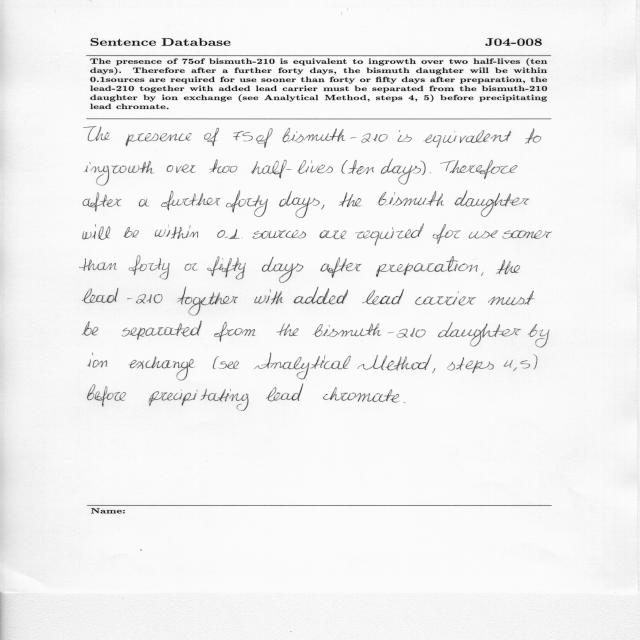word: (254, 353, 351, 379), (149, 388, 249, 411), (376, 256, 478, 277), (454, 190, 529, 217), (438, 322, 521, 346), (177, 287, 238, 315), (282, 127, 388, 143), (313, 323, 426, 338), (85, 161, 155, 185), (128, 357, 195, 381), (424, 130, 511, 148), (251, 160, 333, 179), (122, 321, 202, 340), (355, 224, 424, 246), (450, 160, 518, 179), (357, 354, 432, 371), (323, 387, 399, 403), (82, 288, 163, 303), (161, 191, 221, 211), (381, 159, 426, 185), (226, 190, 268, 217), (279, 191, 320, 218), (262, 257, 303, 283), (128, 256, 170, 280), (378, 191, 444, 206), (294, 287, 348, 304), (207, 257, 246, 280), (320, 257, 362, 278), (88, 384, 126, 407), (126, 133, 192, 146), (415, 292, 476, 306), (214, 322, 256, 342), (83, 192, 122, 212), (447, 358, 494, 374), (362, 289, 404, 305), (488, 291, 535, 305), (266, 384, 303, 401), (155, 225, 198, 239), (433, 224, 461, 244), (528, 324, 550, 347), (79, 258, 117, 271), (253, 230, 306, 239), (254, 289, 283, 305), (503, 230, 553, 239), (83, 224, 110, 240), (209, 159, 237, 173), (84, 127, 110, 142), (348, 160, 374, 175), (496, 260, 520, 275), (256, 128, 273, 148), (339, 192, 361, 207), (88, 353, 107, 368), (204, 128, 219, 146), (520, 354, 538, 369), (277, 324, 299, 336), (167, 164, 196, 173), (469, 230, 498, 239), (217, 229, 243, 239), (525, 128, 541, 144), (320, 230, 347, 239), (83, 321, 98, 336), (233, 131, 253, 141), (397, 130, 412, 142), (440, 161, 455, 172), (124, 227, 139, 238), (219, 361, 239, 369), (185, 263, 198, 271), (341, 160, 348, 174), (139, 199, 149, 207), (213, 356, 219, 369), (504, 360, 513, 368), (513, 368, 517, 372), (322, 205, 325, 210), (432, 369, 435, 374), (481, 272, 483, 276), (404, 402, 406, 403), (430, 173, 431, 174), (508, 360, 509, 361)
